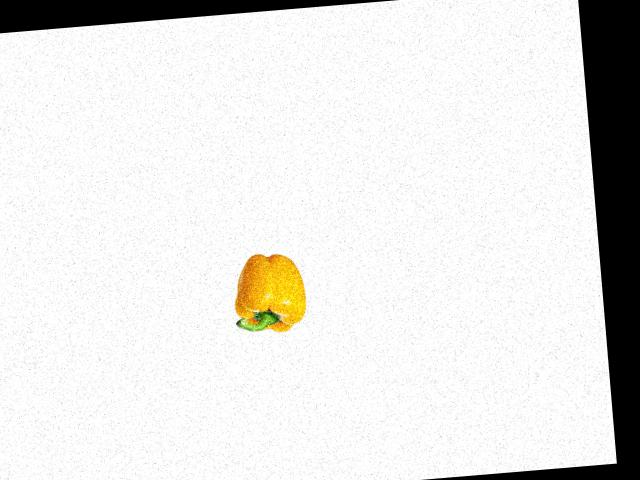bell_pepper: (222, 247, 315, 343)
